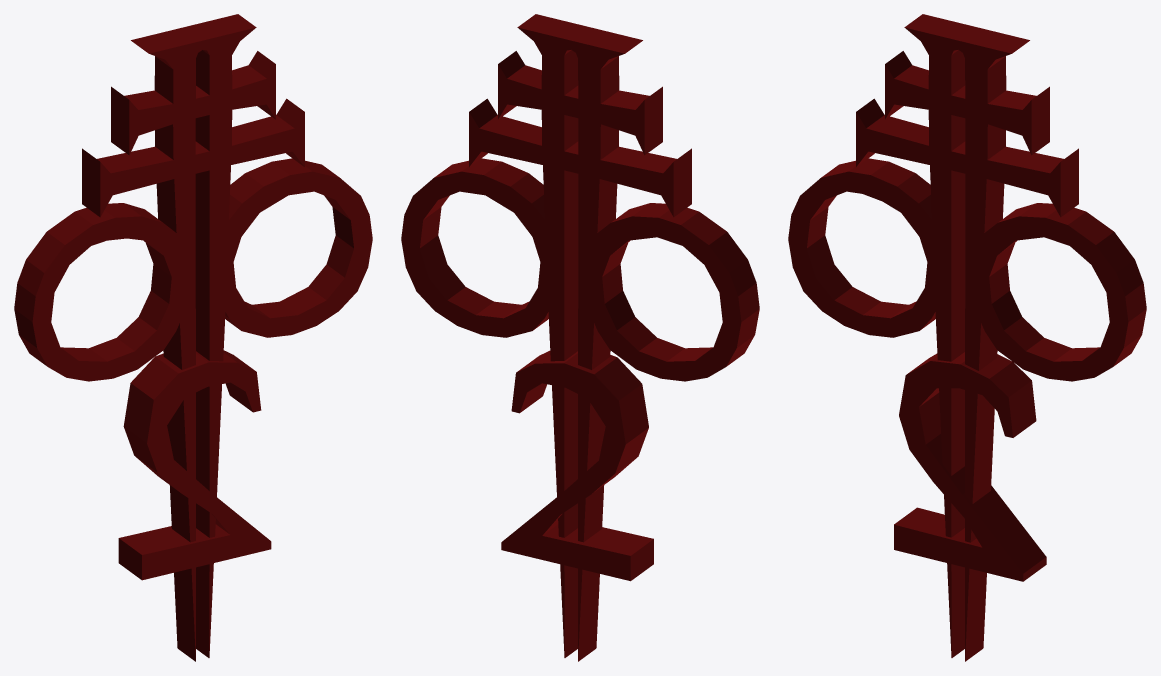
The model's file is default.ico.obj.
3 views of the same model, side by side, from view 1: azimuth 30°, elevation 25°; view 2: azimuth 150°, elevation 25°; view 3: azimuth 330°, elevation 25° (orthographic).
Size of the model in its own units: 2.82 by 4.91 by 0.3352.
Materials: 1 (1 with a texture image).
